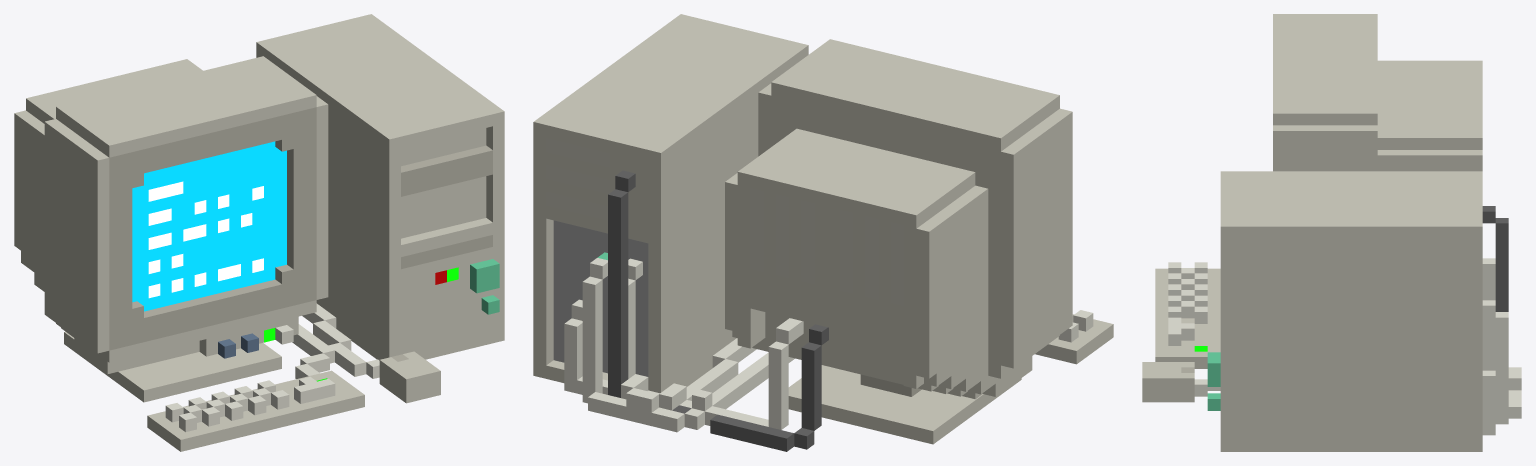
3 views of the same model, side by side, from view 1: azimuth 30°, elevation 25°; view 2: azimuth 150°, elevation 25°; view 3: azimuth 270°, elevation 25° (orthographic). The views are drawn at different scales.
Parts seen in each view (by area): view 1: VoxTransform.001; view 2: VoxTransform.001; view 3: VoxTransform.001.
Boxes of the visible parts, <box> form: VoxTransform.001: <box>14,14,504,451</box>; VoxTransform.001: <box>533,14,1113,451</box>; VoxTransform.001: <box>1142,14,1521,451</box>.
Bounding box in the file's own units: 33 × 22 × 29.
